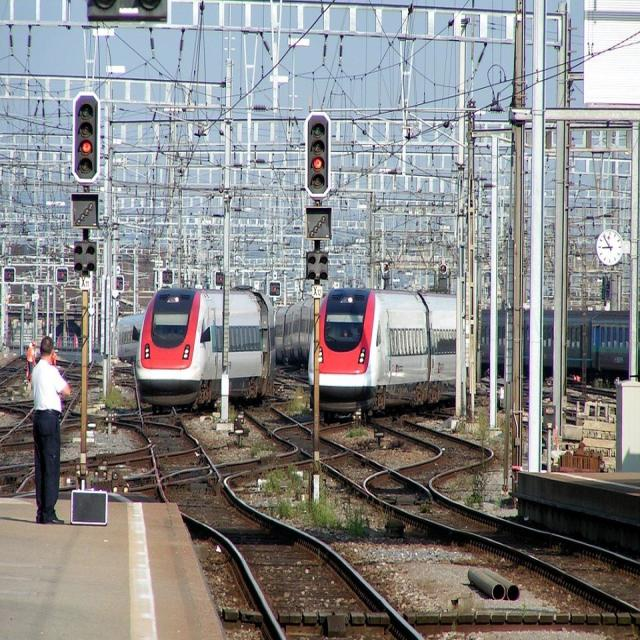body: (24, 333, 72, 529), (26, 340, 37, 377), (26, 341, 37, 376), (72, 330, 78, 348), (53, 348, 59, 366), (57, 329, 63, 346), (343, 329, 347, 337)
